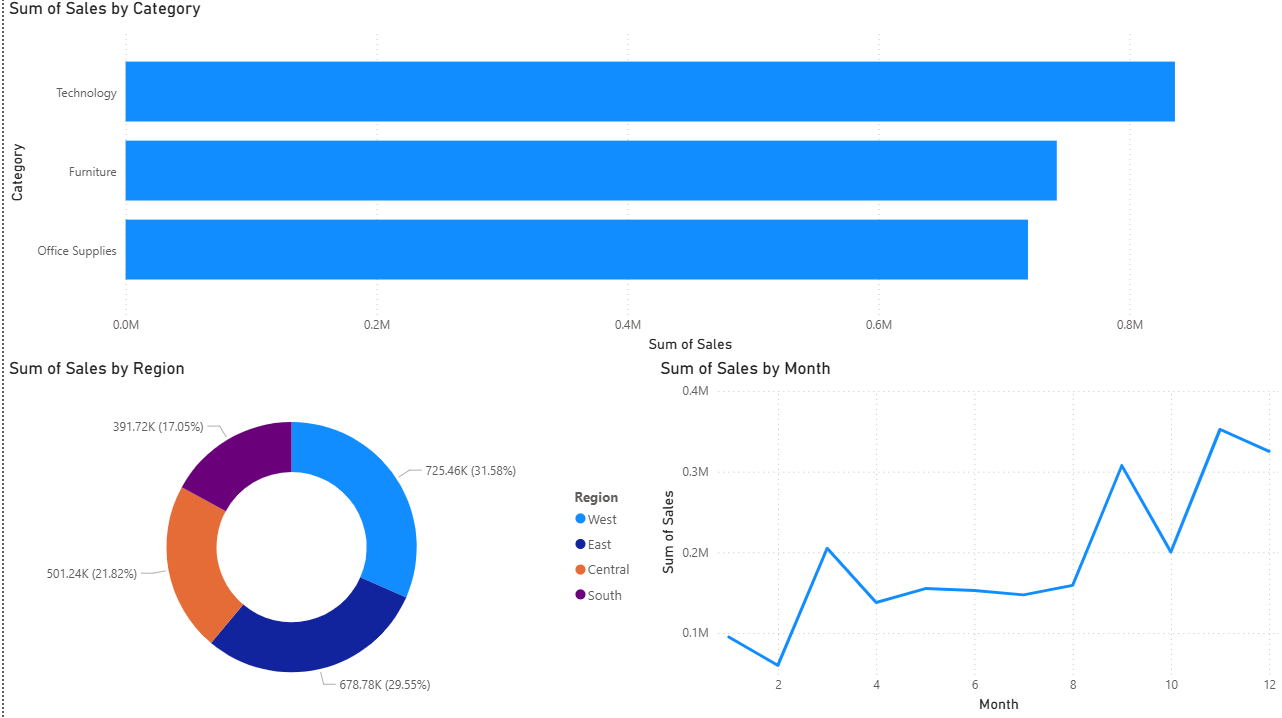

Layout of this report page (visuals, bound fields, positions):
{"tool":"powerbi","page":{"name":"Revenue Analysis","canvas":[1280,720],"ordinal":1},"visuals":[{"type":"clusteredBarChart","fields":{"Category":["processed_sales.Category"],"Y":["Sum(processed_sales.Sales)"]},"box":[0,0,1270.3,359.5],"z":0},{"type":"donutChart","fields":{"Category":["processed_sales.Region"],"Y":["Sum(processed_sales.Sales)"]},"box":[0,359.5,640.5,359.5],"z":1000},{"type":"lineChart","fields":{"Category":["processed_sales.Month"],"Y":["Sum(processed_sales.Sales)"]},"box":[651.2,360.5,629.1,359.3],"z":2000}]}

Visuals, with their boxes in screenshot pixels (x1, y1, x2, y2), scaled from the page's 1280x720 canvas onto the 1282x718 screenshot:
clusteredBarChart - processed_sales.Category x Sum(processed_sales.Sales): select_region(0, 0, 1272, 359)
donutChart - processed_sales.Region x Sum(processed_sales.Sales): select_region(0, 359, 642, 717)
lineChart - processed_sales.Month x Sum(processed_sales.Sales): select_region(652, 359, 1281, 717)
